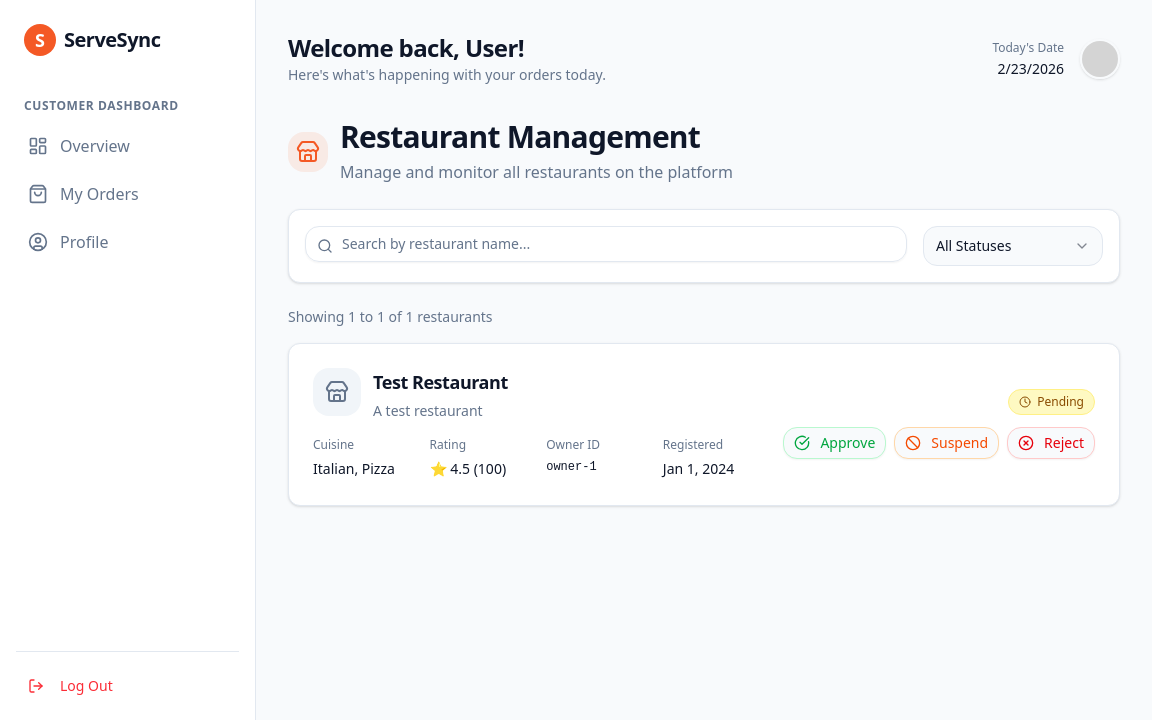
Test case: RestaurantsManagementPage › opens confirmation dialog when status button is clicked
Step 1. Click the button "Approve" → x=835, y=443, box x1=783 y1=427 x2=886 y2=459
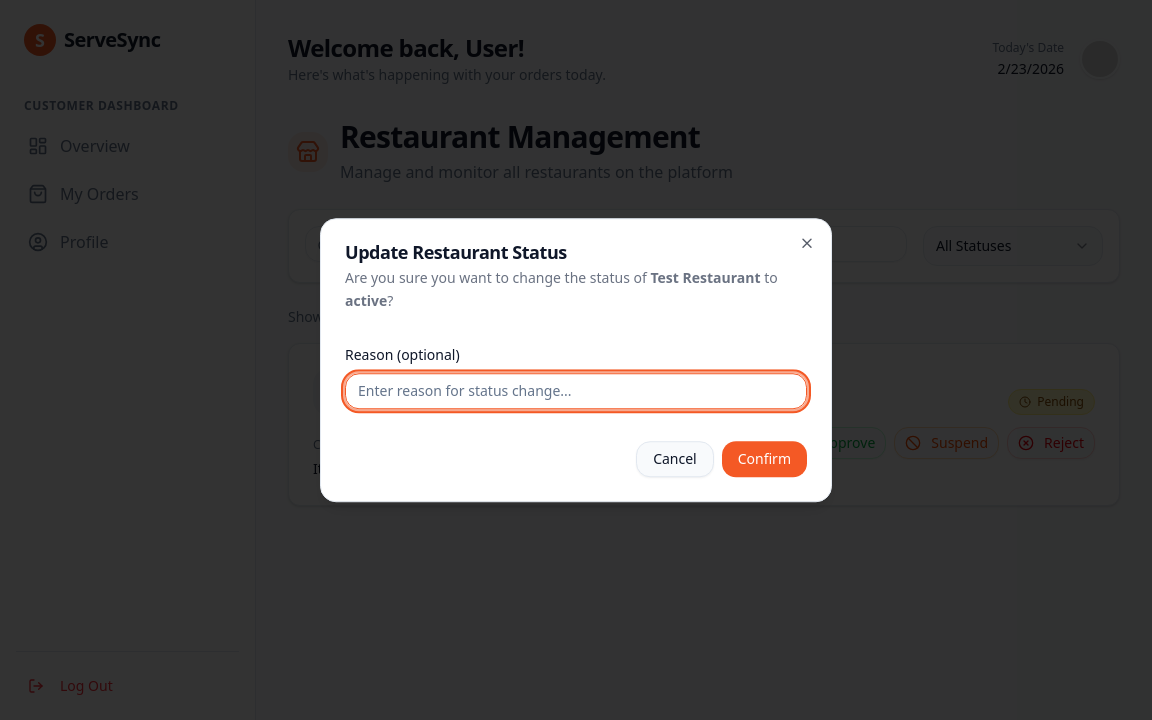
Expected: the heading "Update Restaurant Status" is shown, x1=345 y1=240 x2=567 y2=264
Expected: the text "Are you sure you want to change the status" is shown, x1=345 y1=268 x2=647 y2=287
